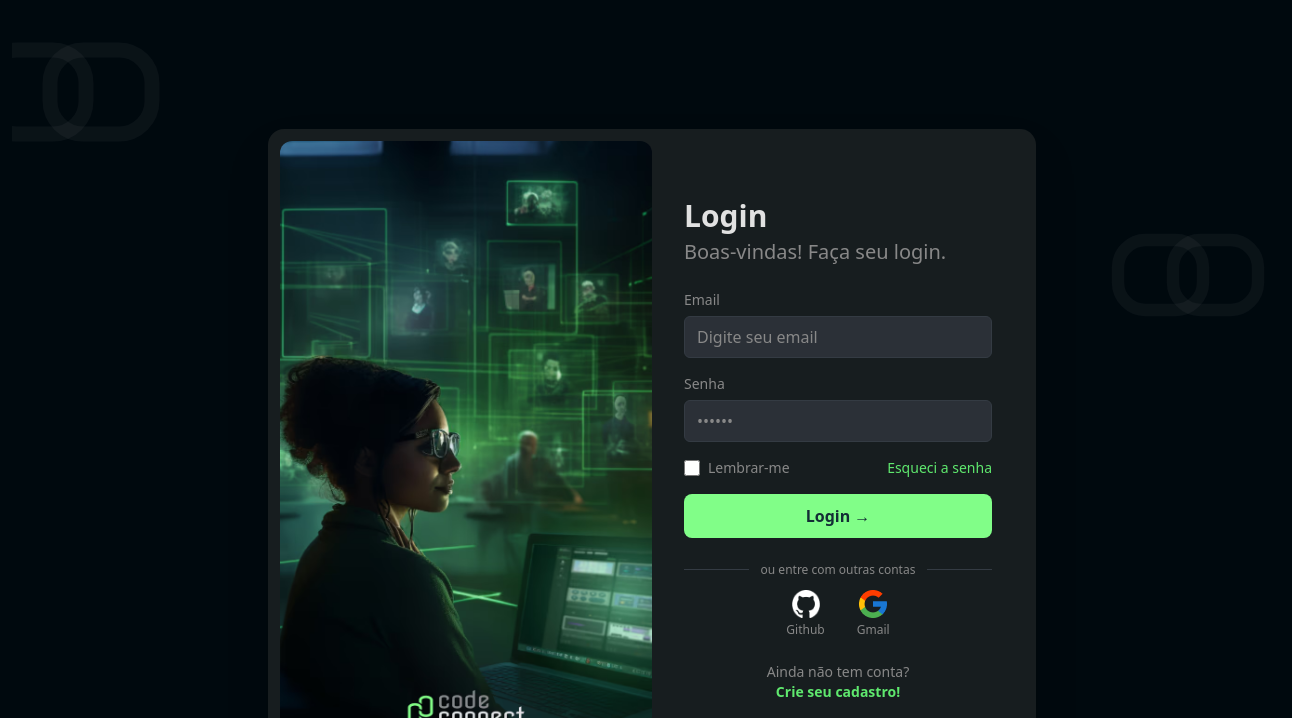
Test: LoginPage › exibe a mensagem de credenciais inválidas em um 401
Type "ana@example.com" into the field labelled "Email" at point(838, 337), box x1=684 y1=316 x2=992 y2=358
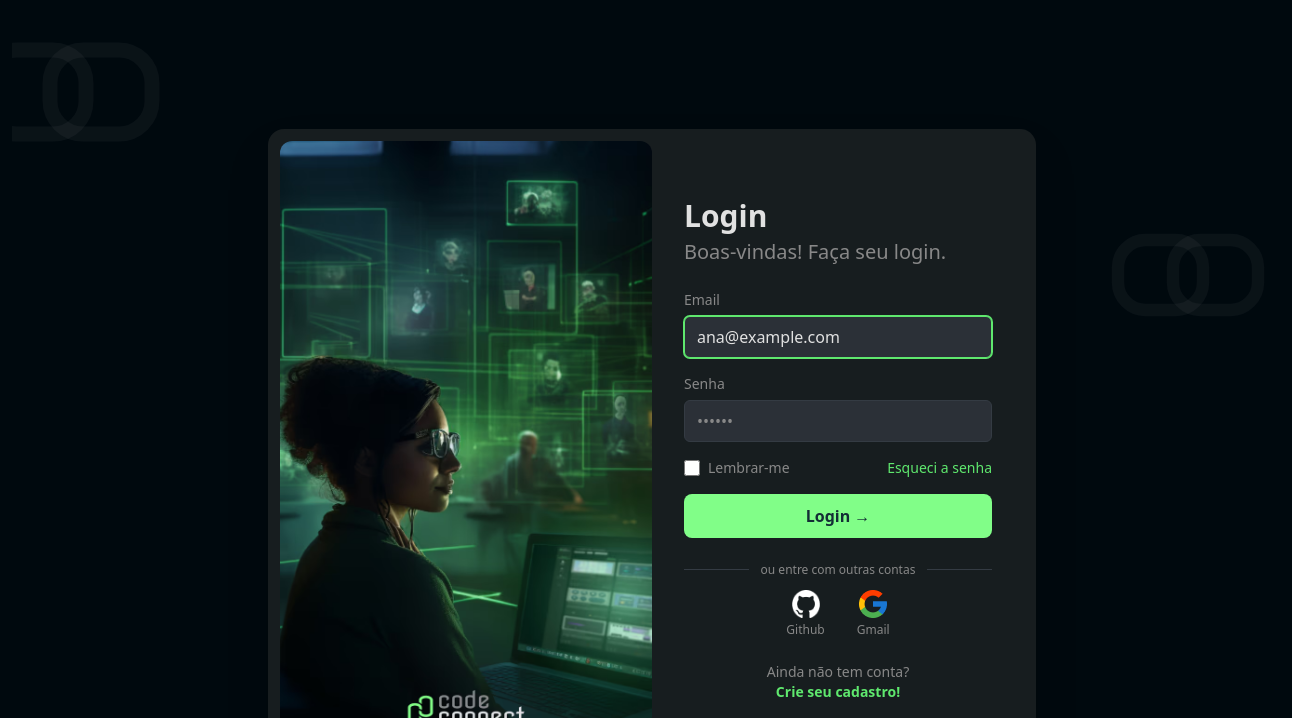
Type "S3nh4Segura!" into the password field labelled "Senha" at point(838, 421), box x1=684 y1=400 x2=992 y2=442
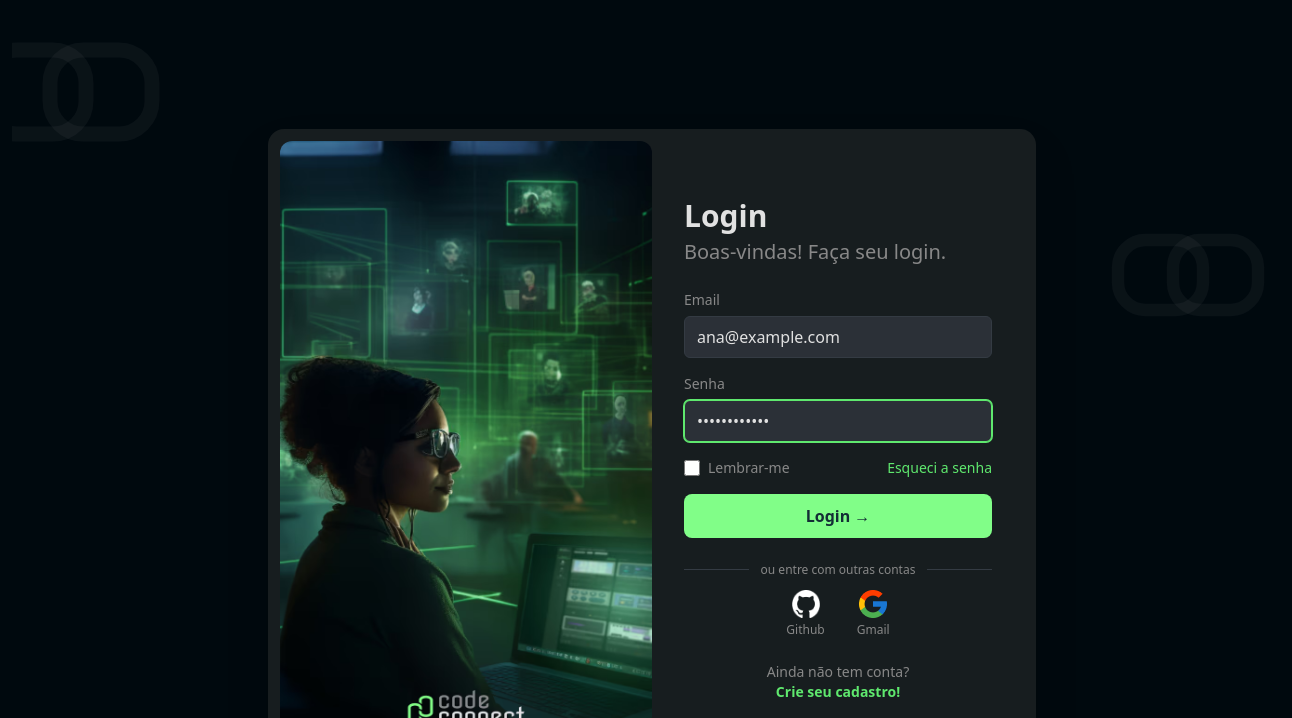
Click the button "Login →" at point(838, 516), box x1=684 y1=494 x2=992 y2=538
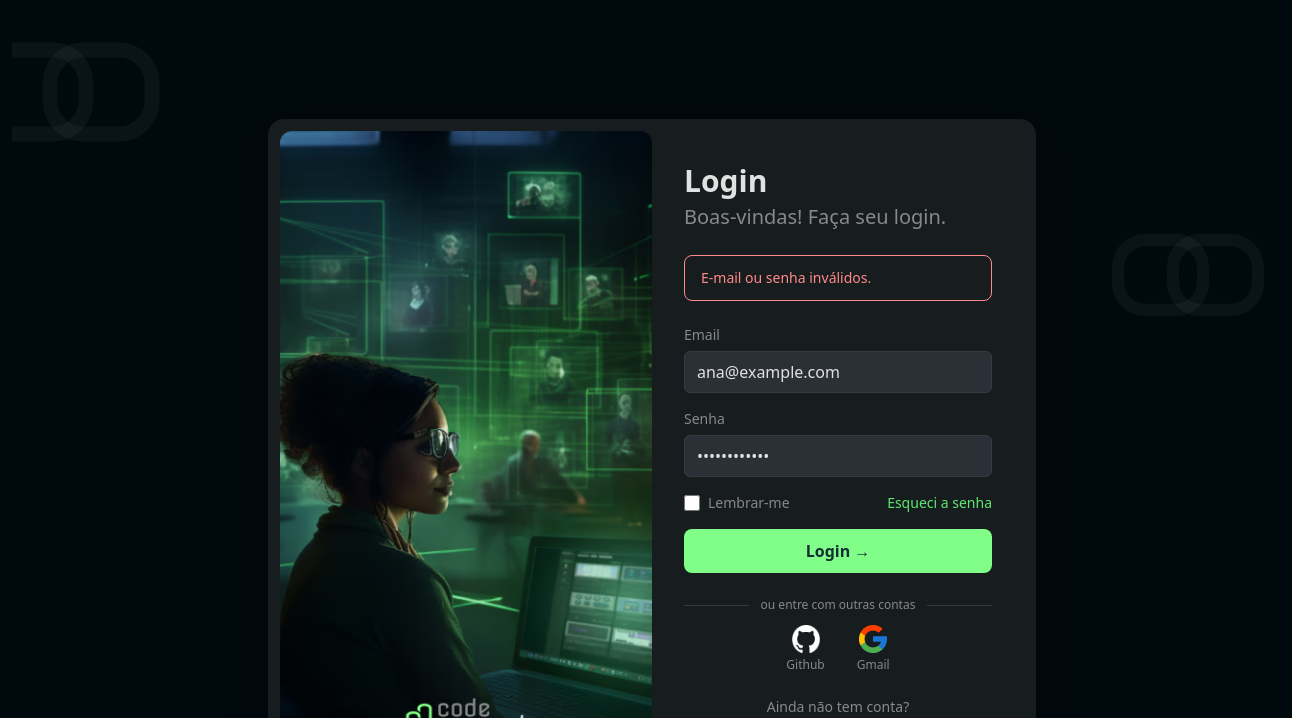
Expected: the button "Login →" is enabled, x1=684 y1=529 x2=992 y2=573
Expected: the message reads "E-mail ou senha inválidos.", x1=701 y1=268 x2=871 y2=287
